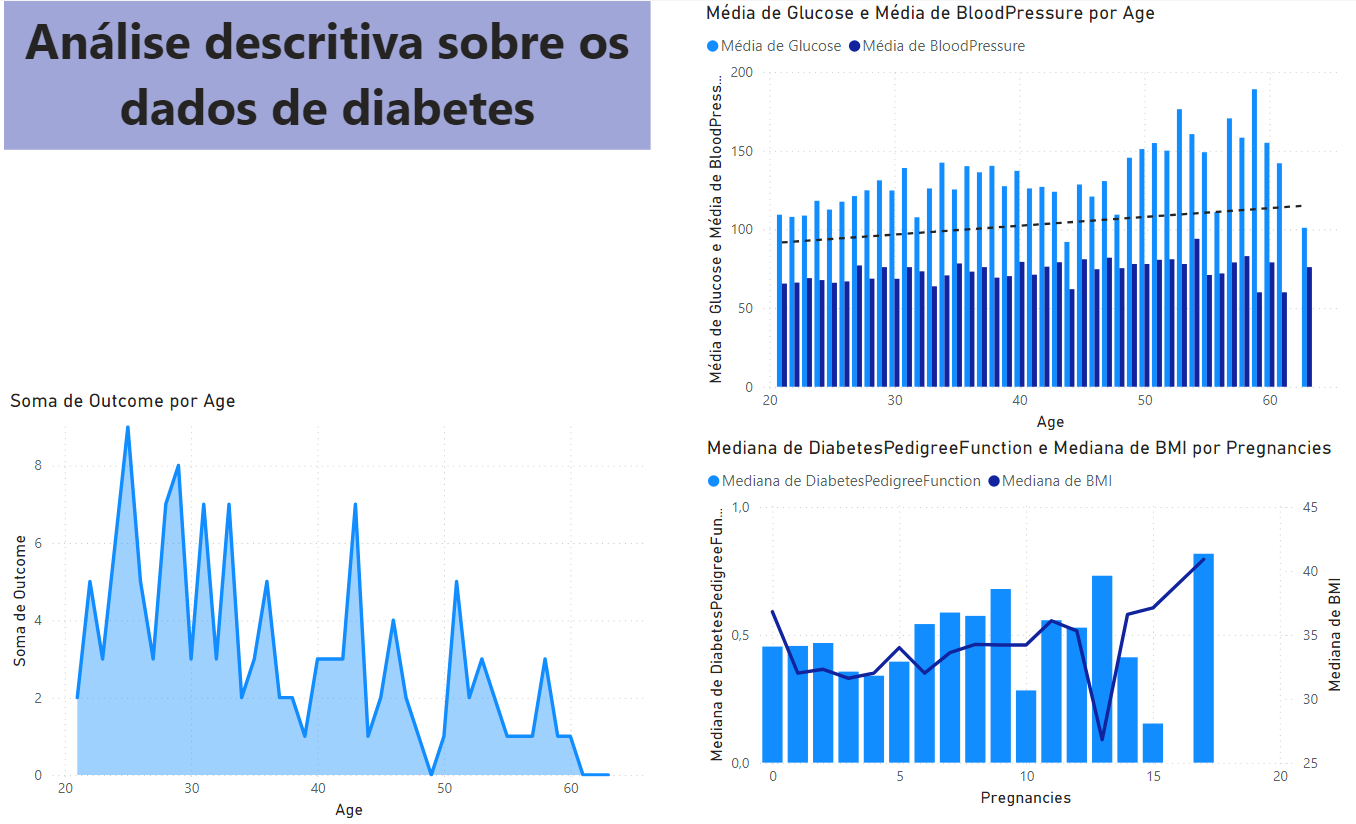

The dashboard page shown, as its layout file describes it:
{"tool":"powerbi","page":{"name":"Página 2","canvas":[1280,720],"ordinal":1},"visuals":[{"type":"lineClusteredColumnComboChart","fields":{"Category":["diabetes.Age"],"Y":["Avg(diabetes.Glucose)","Avg(diabetes.BloodPressure)"]},"box":[683.6,0,564.8,380.4],"z":0},{"type":"lineStackedColumnComboChart","fields":{"Category":["diabetes.Pregnancies"],"Y":["Median(diabetes.DiabetesPedigreeFunction)"],"Y2":["Median(diabetes.BMI)"]},"box":[683.8,380.3,565.1,328.8],"z":1000},{"type":"stackedAreaChart","fields":{"Category":["diabetes.Age"],"Y":["Sum(diabetes.Outcome)"]},"box":[74.9,339.4,565.1,380.3],"z":2000},{"type":"textbox","box":[75.4,0,564.8,130.3],"z":3000}]}

Visuals, with their boxes on the page's 1280x720 design canvas (x1, y1, x2, y2). These are canvas units, not pixel positions in the 1356x824 screenshot, which may show the page scaled, cropped or inside an application window:
lineClusteredColumnComboChart - diabetes.Age x Avg(diabetes.Glucose): [x1=684, y1=0, x2=1248, y2=380]
lineStackedColumnComboChart - diabetes.Pregnancies x Median(diabetes.DiabetesPedigreeFunction): [x1=684, y1=380, x2=1249, y2=709]
stackedAreaChart - diabetes.Age x Sum(diabetes.Outcome): [x1=75, y1=339, x2=640, y2=720]
textbox: [x1=75, y1=0, x2=640, y2=130]
